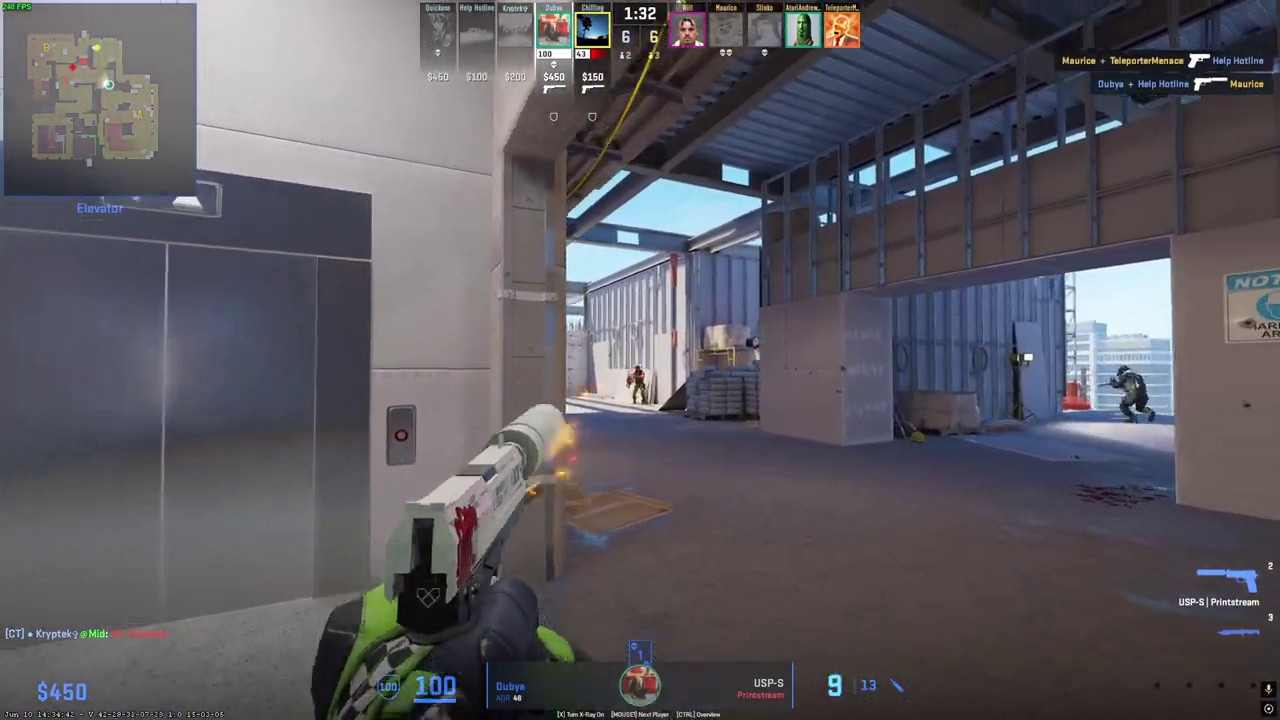CT: (1114, 365, 1151, 423)
Terrorist: (632, 365, 646, 404)
